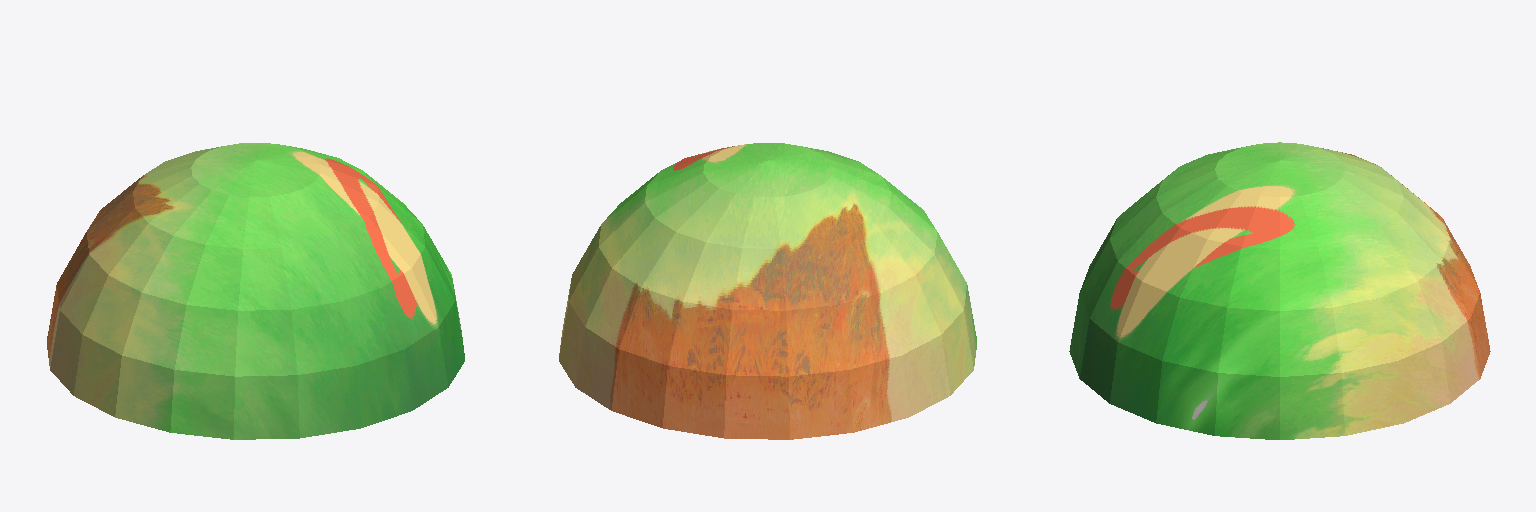
3 views of the same model, side by side, from view 1: azimuth 30°, elevation 25°; view 2: azimuth 150°, elevation 25°; view 3: azimuth 270°, elevation 25° (orthographic).
Visible parts, largest first — view 1: Sphere114; view 2: Sphere114; view 3: Sphere114.
Boxes of the visible parts, x1,y1,x2,y2 form: Sphere114: [47, 143, 464, 439]; Sphere114: [559, 143, 976, 439]; Sphere114: [1069, 142, 1490, 439].
Size of the model in its own units: 1619 by 810 by 1619.
Materials: 7 (7 with a texture image).